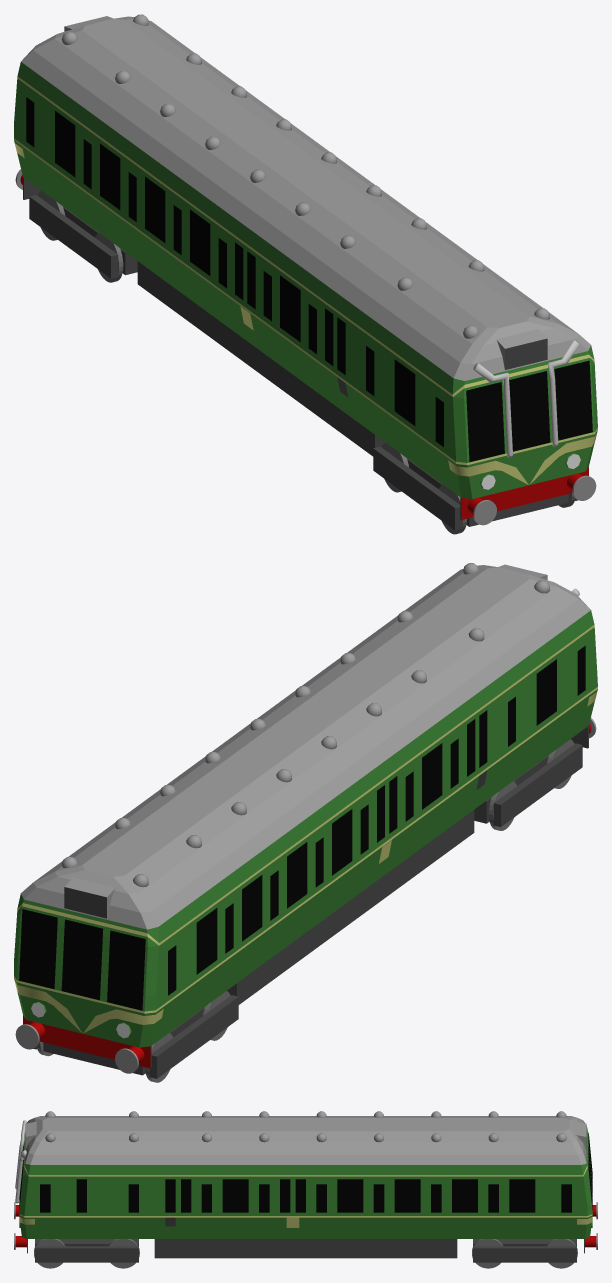
3 views of the same model, one above another, from view 1: azimuth 30°, elevation 25°; view 2: azimuth 150°, elevation 25°; view 3: azimuth 270°, elevation 25° (orthographic). The views are drawn at different scales.
Visible parts, largest first — view 1: Plane_002, Cube_012, Plane_011, Plane_008, Cube_004, Cube_001, Plane_001, Cube_008, Cube_006, Plane_029, Plane_053, Plane_048 (+7 smaller); view 2: Plane_002, Cube_012, Plane_003, Plane_005, Plane_004, Cube_001, Cube_004, Cube_009, Cube_007, Plane_032, Plane_037, Plane_038 (+5 smaller); view 3: Plane_002, Cube_012, Cube_005, Cube, Plane_027, Plane_019, Plane_018, Plane_013, Plane_025, Cube_003, Cube_002, Plane_016 (+20 smaller).
Boxes of the visible parts, x1,y1,x2,y2 form: Plane_002: (14, 16, 597, 498); Cube_012: (137, 261, 384, 456); Plane_011: (509, 371, 550, 451); Plane_008: (466, 382, 504, 462); Cube_004: (29, 195, 118, 278); Cube_001: (373, 446, 462, 530); Plane_001: (554, 360, 592, 440); Cube_008: (460, 467, 588, 519); Cube_006: (496, 329, 547, 369); Plane_029: (448, 432, 597, 484); Plane_053: (394, 359, 415, 425); Plane_048: (280, 275, 300, 342); Plane_002: (14, 565, 597, 1047); Cube_012: (227, 810, 474, 1004); Plane_003: (61, 919, 103, 1000); Plane_005: (19, 909, 57, 989); Plane_004: (107, 930, 145, 1010); Cube_001: (493, 743, 582, 826); Cube_004: (149, 995, 238, 1078); Cube_009: (23, 1015, 151, 1068); Cube_007: (64, 877, 115, 918); Plane_032: (14, 981, 163, 1033); Plane_037: (196, 908, 217, 974); Plane_038: (242, 875, 262, 941); Plane_002: (19, 1116, 592, 1238); Cube_012: (154, 1239, 457, 1258); Cube_005: (473, 1246, 576, 1262); Cube: (35, 1246, 138, 1262); Plane_027: (509, 1179, 535, 1212); Plane_019: (394, 1179, 420, 1212); Plane_018: (337, 1179, 363, 1212); Plane_013: (222, 1179, 248, 1212); Plane_025: (452, 1179, 477, 1212); Cube_003: (473, 1239, 576, 1246); Cube_002: (35, 1239, 138, 1246); Plane_016: (280, 1179, 290, 1212).
Bounding box in the file's own units: 2 × 11.2 × 2.71.
